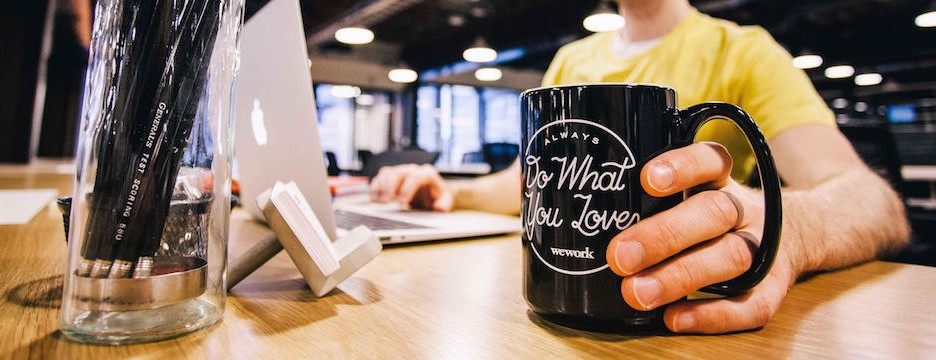wework: (549, 242, 596, 261)
